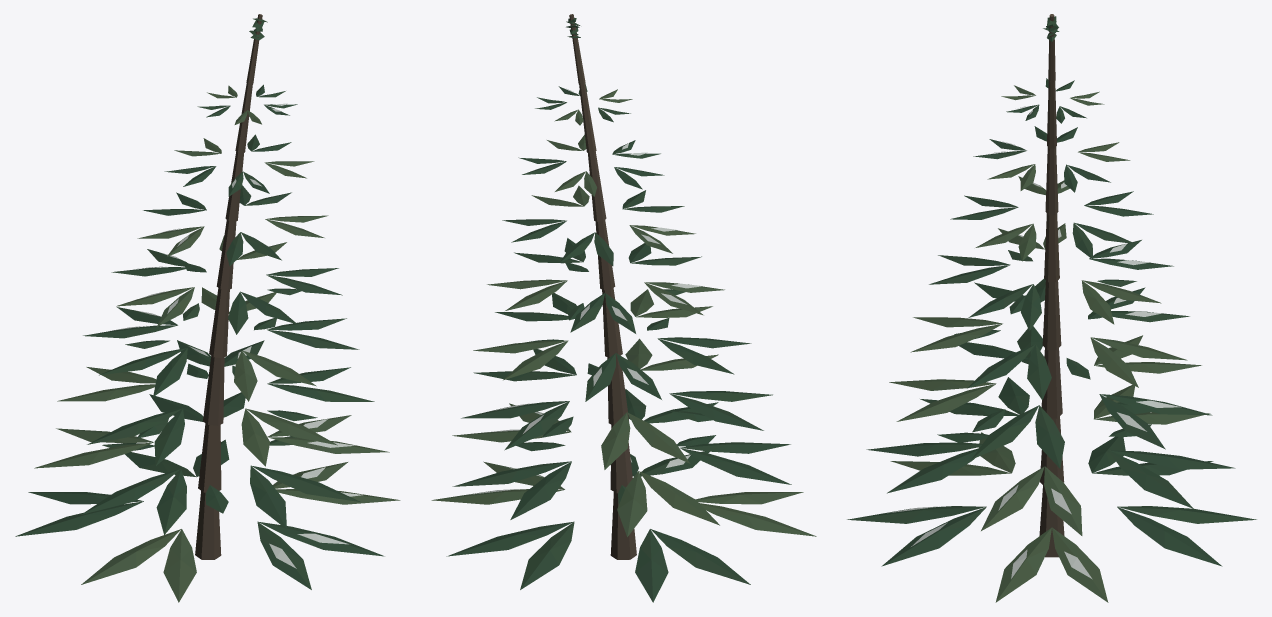
File: spruce_windswept_lod.glb
The picture shows the model from 3 angles, left to right: view 1: azimuth 30°, elevation 25°; view 2: azimuth 150°, elevation 25°; view 3: azimuth 270°, elevation 25°; orthographic projection. The views are drawn at different scales.
Parts seen in each view (by area): view 1: spruce_windswept_lod; view 2: spruce_windswept_lod; view 3: spruce_windswept_lod.
Part boxes in pixels (<box>): spruce_windswept_lod: <box>15,14,400,602</box>; spruce_windswept_lod: <box>431,14,816,602</box>; spruce_windswept_lod: <box>847,14,1256,602</box>.
Size of the model in its own units: 2.22 by 3.42 by 2.26.
